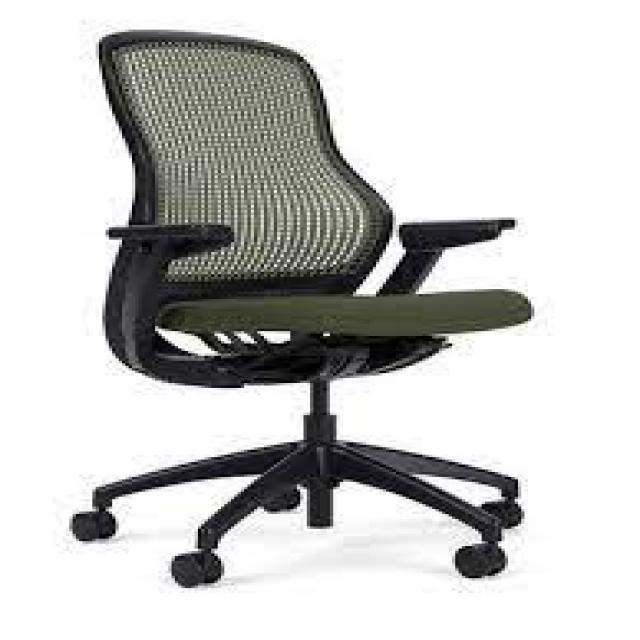chair: (42, 10, 534, 640)
